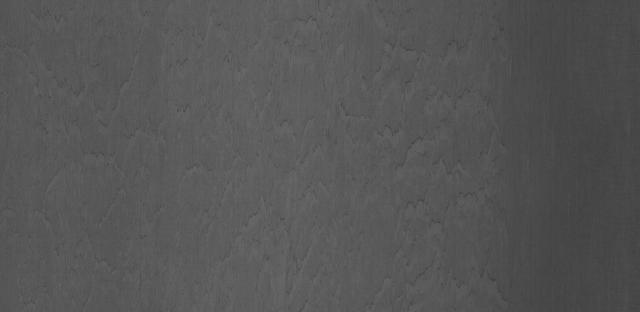silk_spot: (182, 64, 345, 226), (351, 51, 468, 180), (386, 184, 511, 283), (231, 11, 331, 47)
